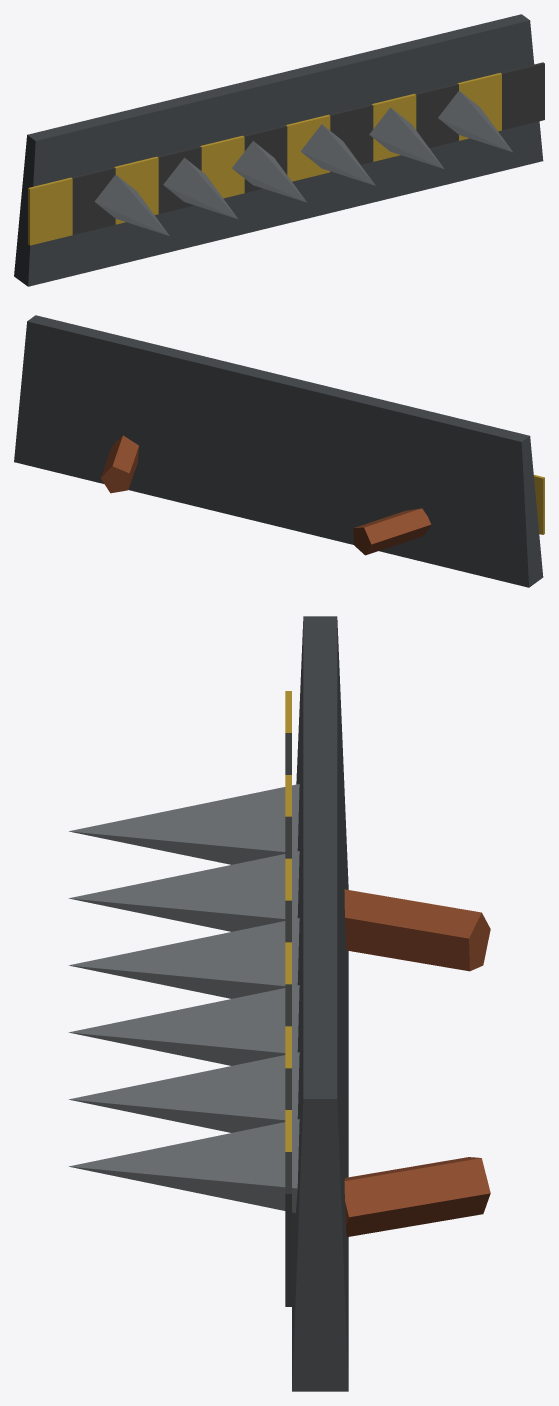
Rendered from upg_ram_t4.glb.
The picture shows the model from 3 angles, top to bottom: view 1: azimuth 30°, elevation 25°; view 2: azimuth 150°, elevation 25°; view 3: azimuth 270°, elevation 25°; orthographic projection. The views are drawn at different scales.
Parts seen in each view (by area): view 1: ram; view 2: ram; view 3: ram.
Part boxes in pixels (x1,y1,x2,y2): ram: [14, 14, 544, 286]; ram: [14, 315, 544, 587]; ram: [68, 616, 490, 1391].
Bounding box in the file's own units: 2.1 × 0.55 × 0.7458.
